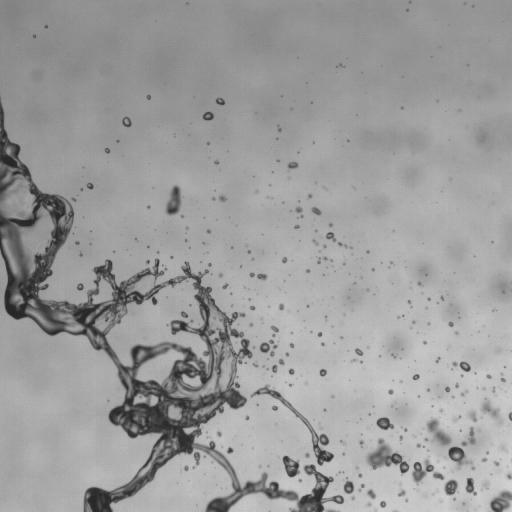droplet: (365, 439, 409, 476), (422, 416, 451, 445), (487, 489, 511, 511), (259, 339, 279, 357), (443, 478, 460, 495), (376, 417, 394, 430), (465, 477, 477, 495), (343, 476, 354, 494), (467, 409, 477, 422), (17, 151, 28, 162), (160, 191, 171, 202), (63, 234, 74, 245), (55, 246, 66, 257), (37, 289, 48, 300), (75, 293, 86, 304), (441, 354, 452, 365), (113, 394, 124, 405), (471, 400, 482, 411), (444, 406, 455, 417), (460, 417, 471, 428), (379, 428, 390, 439), (215, 441, 226, 452), (366, 441, 377, 452), (388, 442, 399, 453), (176, 451, 187, 462), (199, 452, 210, 463), (498, 452, 509, 463), (318, 462, 329, 473), (360, 462, 371, 473), (499, 462, 510, 473), (121, 472, 132, 483), (220, 473, 231, 484), (305, 476, 316, 487), (278, 479, 289, 490), (101, 480, 112, 491), (332, 483, 343, 494), (301, 484, 312, 495), (221, 485, 232, 496), (488, 487, 499, 498), (74, 491, 85, 502), (242, 492, 253, 503), (325, 232, 336, 242), (480, 479, 489, 491), (366, 489, 376, 499), (202, 111, 213, 120), (122, 116, 131, 127), (287, 161, 298, 170), (270, 325, 278, 337), (452, 414, 461, 423), (209, 103, 218, 112), (7, 133, 16, 142), (38, 184, 47, 193), (302, 206, 311, 215), (136, 262, 145, 271), (156, 274, 165, 283), (54, 293, 63, 302), (274, 348, 283, 357), (490, 375, 499, 384), (237, 386, 246, 395), (430, 409, 439, 418), (499, 409, 508, 418), (436, 422, 445, 431), (150, 431, 159, 440), (460, 431, 469, 440), (289, 452, 298, 461), (308, 455, 317, 464), (390, 462, 399, 471), (377, 464, 386, 473), (250, 473, 259, 482), (436, 479, 445, 488), (457, 479, 466, 488), (143, 481, 152, 490), (256, 491, 265, 500), (121, 496, 130, 505), (276, 496, 285, 505), (288, 499, 297, 508), (322, 500, 331, 509), (311, 207, 321, 215), (257, 273, 267, 281), (498, 444, 508, 452), (216, 97, 225, 105), (179, 310, 188, 318), (505, 370, 511, 381), (505, 480, 511, 491), (218, 195, 227, 202), (354, 348, 363, 355), (76, 283, 84, 290), (319, 368, 326, 376), (460, 389, 468, 396), (504, 471, 511, 479), (0, 285, 5, 296), (358, 438, 364, 447), (86, 182, 93, 189), (295, 206, 302, 213), (412, 374, 419, 381), (226, 446, 233, 453), (3, 123, 10, 130), (288, 155, 295, 162), (31, 176, 38, 183), (178, 189, 185, 196), (160, 203, 167, 210), (177, 206, 184, 213), (171, 212, 178, 219), (320, 249, 327, 256), (97, 259, 104, 266), (147, 262, 154, 269), (49, 263, 56, 270), (134, 266, 141, 273), (190, 267, 197, 274), (90, 272, 97, 279), (44, 276, 51, 283), (200, 280, 207, 287), (209, 290, 216, 297), (244, 308, 251, 315), (6, 314, 13, 321), (404, 315, 411, 322), (20, 316, 27, 323), (230, 321, 237, 328), (56, 331, 63, 338), (79, 334, 86, 341), (98, 348, 105, 355), (111, 366, 118, 373), (287, 374, 294, 381), (457, 385, 464, 392), (485, 390, 492, 397), (273, 398, 280, 405), (489, 401, 496, 408), (222, 402, 229, 409), (475, 409, 482, 416), (483, 412, 490, 419), (423, 415, 430, 422), (466, 419, 473, 426), (115, 424, 122, 431), (426, 431, 433, 438), (192, 436, 199, 443), (448, 440, 455, 447), (220, 447, 227, 454), (224, 452, 231, 459), (486, 457, 493, 464), (297, 464, 304, 471), (314, 464, 321, 471), (260, 465, 267, 472), (433, 465, 440, 472), (155, 467, 162, 474), (425, 471, 432, 478), (308, 473, 315, 480), (443, 474, 450, 481), (352, 481, 359, 488), (472, 481, 479, 488), (277, 483, 284, 490), (438, 487, 445, 494), (337, 488, 344, 495), (297, 490, 304, 497), (322, 491, 329, 498), (342, 492, 349, 499), (206, 494, 213, 501), (236, 498, 243, 505), (372, 498, 379, 505), (108, 501, 115, 508), (200, 501, 207, 508), (271, 364, 277, 372), (506, 441, 511, 450), (227, 506, 236, 511), (222, 282, 228, 289), (278, 303, 284, 310), (278, 358, 284, 365), (252, 360, 258, 367), (288, 368, 294, 375), (216, 430, 222, 437), (380, 500, 386, 507), (271, 405, 279, 410), (317, 331, 323, 337), (304, 452, 310, 458), (493, 460, 499, 466), (0, 295, 4, 304), (505, 505, 511, 511), (445, 386, 450, 393), (104, 148, 110, 153), (307, 193, 312, 199), (294, 224, 300, 229), (282, 257, 287, 263), (448, 321, 453, 327), (289, 342, 294, 348), (438, 407, 443, 413), (481, 457, 487, 462), (184, 465, 189, 471), (366, 501, 371, 507), (507, 466, 511, 473), (378, 507, 385, 511), (328, 222, 333, 227), (218, 272, 223, 277), (249, 272, 254, 277), (495, 348, 500, 353), (391, 353, 396, 358), (388, 389, 393, 394), (350, 495, 355, 500), (406, 3, 411, 8), (2, 107, 7, 112), (212, 112, 217, 117), (275, 131, 280, 136), (210, 156, 215, 161), (297, 162, 302, 167), (290, 167, 295, 172), (28, 168, 33, 173), (223, 192, 228, 197), (214, 197, 219, 202), (69, 200, 74, 205), (297, 202, 302, 207), (316, 204, 321, 209), (290, 205, 295, 210), (72, 208, 77, 213), (295, 211, 300, 216), (311, 212, 316, 217), (72, 213, 77, 218), (294, 219, 299, 224), (69, 227, 74, 232), (328, 227, 333, 232), (184, 241, 189, 246), (317, 244, 322, 249), (339, 245, 344, 250), (318, 252, 323, 257), (154, 253, 159, 258), (246, 253, 251, 258), (277, 255, 282, 260), (319, 258, 324, 263), (157, 265, 162, 270), (207, 266, 212, 271), (110, 268, 115, 273), (260, 269, 265, 274), (179, 270, 184, 275), (265, 276, 270, 281), (257, 278, 262, 283), (115, 280, 120, 285), (38, 281, 43, 286), (91, 283, 96, 288), (214, 300, 219, 305), (249, 300, 254, 305), (273, 303, 278, 308), (283, 304, 288, 309), (236, 308, 241, 313), (227, 313, 232, 318), (236, 315, 241, 320), (274, 322, 279, 327), (33, 323, 38, 328), (451, 325, 456, 330), (236, 327, 241, 332), (40, 330, 45, 335), (312, 330, 317, 335), (45, 333, 50, 338), (242, 334, 247, 339), (272, 336, 277, 341), (318, 336, 323, 341), (263, 337, 268, 342), (246, 345, 251, 350), (286, 346, 291, 351), (359, 346, 364, 351), (273, 348, 278, 353), (353, 353, 358, 358), (243, 355, 248, 360), (282, 356, 287, 361), (273, 359, 278, 364), (257, 361, 262, 366), (235, 362, 240, 367), (267, 363, 272, 368), (276, 363, 281, 368), (455, 364, 460, 369), (469, 366, 474, 371), (267, 368, 272, 373), (460, 369, 465, 374), (232, 377, 237, 382), (387, 384, 392, 389), (449, 384, 454, 389), (253, 385, 258, 390), (274, 386, 279, 391), (265, 393, 270, 398), (243, 402, 248, 407), (291, 402, 296, 407), (433, 405, 438, 410), (237, 406, 242, 411), (289, 411, 294, 416), (301, 411, 306, 416), (380, 412, 385, 417), (504, 416, 509, 421), (208, 417, 213, 422), (295, 417, 300, 422), (388, 418, 393, 423), (371, 419, 376, 424), (106, 420, 111, 425), (470, 421, 475, 426), (375, 425, 380, 430), (303, 426, 308, 431), (464, 428, 469, 433), (399, 429, 404, 434), (220, 430, 225, 435), (316, 430, 321, 435), (122, 431, 127, 436), (306, 431, 311, 436), (326, 433, 331, 438), (472, 433, 477, 438), (136, 434, 141, 439), (356, 435, 361, 440), (360, 435, 365, 440), (419, 439, 424, 444), (204, 441, 209, 446), (308, 442, 313, 447), (457, 443, 462, 448), (214, 445, 219, 450), (461, 445, 466, 450), (199, 450, 204, 455), (443, 450, 448, 455), (481, 452, 486, 457), (287, 453, 292, 458), (198, 456, 203, 461), (330, 457, 335, 462), (446, 457, 451, 462), (140, 459, 145, 464), (166, 459, 171, 464), (428, 459, 433, 464), (322, 460, 327, 465), (451, 460, 456, 465), (213, 461, 218, 466), (472, 461, 477, 466), (279, 462, 284, 467), (195, 464, 200, 469), (491, 464, 496, 469), (218, 465, 223, 470), (408, 465, 413, 470), (233, 466, 238, 471), (187, 467, 192, 472), (324, 472, 329, 477), (466, 473, 471, 478), (293, 474, 298, 479), (486, 475, 491, 480), (347, 476, 352, 481), (273, 477, 278, 482), (435, 477, 440, 482), (340, 480, 345, 485), (264, 482, 269, 487), (400, 484, 405, 489), (361, 487, 366, 492), (372, 488, 377, 493), (452, 491, 457, 496), (467, 491, 472, 496), (448, 493, 453, 498), (366, 495, 371, 500), (399, 495, 404, 500), (384, 498, 389, 503), (368, 505, 373, 510), (145, 259, 149, 265), (440, 295, 444, 301), (249, 306, 255, 310), (455, 382, 459, 388), (399, 435, 403, 441), (0, 256, 3, 263), (146, 94, 150, 99), (214, 160, 219, 164), (71, 197, 76, 201), (206, 229, 211, 233), (134, 237, 138, 242), (207, 262, 211, 267), (305, 269, 310, 273), (249, 322, 253, 327), (422, 340, 427, 344), (486, 374, 491, 378), (245, 415, 249, 420), (146, 205, 150, 209), (180, 214, 184, 218), (454, 331, 458, 335), (320, 342, 324, 346), (285, 352, 289, 356), (412, 434, 416, 438), (298, 478, 302, 482), (79, 251, 82, 256), (405, 497, 408, 502), (206, 141, 209, 145), (254, 190, 258, 193), (185, 226, 188, 230), (75, 241, 79, 244), (323, 244, 326, 248), (247, 250, 251, 253), (390, 261, 394, 264), (492, 308, 496, 311), (427, 321, 430, 325), (252, 345, 255, 349), (304, 381, 308, 384), (426, 388, 430, 391), (451, 395, 455, 398), (404, 427, 407, 431), (258, 464, 261, 468), (423, 494, 427, 497), (452, 497, 456, 500), (44, 25, 47, 28), (400, 106, 403, 109), (116, 139, 119, 142), (276, 159, 279, 162), (352, 186, 355, 189), (212, 197, 215, 200), (314, 229, 317, 232), (230, 246, 233, 249), (156, 250, 159, 253), (366, 250, 369, 253), (170, 256, 173, 259), (251, 257, 254, 260), (342, 262, 345, 265), (371, 268, 374, 271), (366, 288, 369, 291), (229, 292, 232, 295), (427, 297, 430, 300), (230, 304, 233, 307), (306, 304, 309, 307), (412, 320, 415, 323), (290, 331, 293, 334), (378, 354, 381, 357), (460, 374, 463, 377), (399, 380, 402, 383), (482, 387, 485, 390), (331, 395, 334, 398), (323, 408, 326, 411), (486, 451, 489, 454), (342, 452, 345, 455), (439, 499, 442, 502), (462, 502, 465, 505), (405, 11, 408, 14), (41, 23, 44, 26), (47, 24, 50, 27), (44, 27, 47, 30), (32, 31, 35, 34), (29, 34, 32, 37), (35, 34, 38, 37), (335, 62, 338, 65), (341, 62, 344, 65), (337, 65, 340, 68), (144, 92, 147, 95), (218, 94, 221, 97), (150, 95, 153, 98), (144, 97, 147, 100), (223, 99, 226, 102), (213, 100, 216, 103), (216, 103, 219, 106), (309, 103, 312, 106), (220, 104, 223, 107), (206, 108, 209, 111), (201, 111, 204, 114), (121, 114, 124, 117), (126, 114, 129, 117), (130, 119, 133, 122), (204, 119, 207, 122), (207, 119, 210, 122), (119, 120, 122, 123), (120, 123, 123, 126), (130, 123, 133, 126), (278, 124, 281, 127), (123, 125, 126, 128), (274, 127, 277, 130), (280, 129, 283, 132), (116, 136, 119, 139), (347, 136, 350, 139), (204, 139, 207, 142), (343, 139, 346, 142), (113, 140, 116, 143), (309, 140, 312, 143), (314, 140, 317, 143), (117, 141, 120, 144), (208, 143, 211, 146), (312, 143, 315, 146), (104, 144, 107, 147), (107, 145, 110, 148), (109, 149, 112, 152), (103, 151, 106, 154), (276, 156, 279, 159), (217, 158, 220, 161), (276, 161, 279, 164), (214, 163, 217, 166), (268, 170, 271, 173), (91, 181, 94, 184), (92, 186, 95, 189), (86, 187, 89, 190), (79, 190, 82, 193), (307, 190, 310, 193), (304, 194, 307, 197), (73, 195, 76, 198), (311, 195, 314, 198), (208, 196, 211, 199), (297, 196, 300, 199), (308, 197, 311, 200), (210, 199, 213, 202), (145, 202, 148, 205), (149, 205, 152, 208), (144, 207, 147, 210), (298, 217, 301, 220), (330, 220, 333, 223), (209, 227, 212, 230), (296, 227, 299, 230), (183, 228, 186, 231), (203, 228, 206, 231), (186, 229, 189, 232), (205, 232, 208, 235), (333, 234, 336, 237), (131, 236, 134, 239), (136, 236, 139, 239), (186, 237, 189, 240), (75, 238, 78, 241), (181, 238, 184, 241), (315, 238, 318, 241), (132, 239, 135, 242), (203, 239, 206, 242), (334, 240, 337, 243), (340, 240, 343, 243), (79, 241, 82, 244), (311, 242, 314, 245), (200, 243, 203, 246), (346, 243, 349, 246), (350, 243, 353, 246), (75, 244, 78, 247), (143, 244, 146, 247), (227, 244, 230, 247), (149, 245, 152, 248), (190, 245, 193, 248), (247, 246, 250, 249), (145, 247, 148, 250), (346, 247, 349, 250), (364, 247, 367, 250), (230, 248, 233, 251), (368, 248, 371, 251), (244, 249, 247, 252), (250, 249, 253, 252), (80, 250, 83, 253), (76, 251, 79, 254), (169, 252, 172, 255), (364, 252, 367, 255), (77, 255, 80, 258), (80, 255, 83, 258), (326, 255, 329, 258), (144, 257, 147, 260), (199, 257, 202, 260), (315, 257, 318, 260), (170, 258, 173, 261), (185, 258, 188, 261), (332, 258, 335, 261), (207, 259, 210, 262), (326, 259, 329, 262), (285, 260, 288, 263), (392, 260, 395, 263), (210, 261, 213, 264), (158, 262, 161, 265), (281, 262, 284, 265), (316, 263, 319, 266), (389, 263, 392, 266), (236, 264, 239, 267), (340, 264, 343, 267), (343, 264, 346, 267), (371, 264, 374, 267), (241, 265, 244, 268), (304, 266, 307, 269), (308, 266, 311, 269), (374, 267, 377, 270), (368, 268, 371, 271), (250, 269, 253, 272), (305, 272, 308, 275), (253, 274, 256, 277), (247, 275, 250, 278), (226, 280, 229, 283), (414, 281, 417, 284), (420, 281, 423, 284), (221, 282, 224, 285), (74, 283, 77, 286), (416, 284, 419, 287), (226, 285, 229, 288), (231, 290, 234, 293), (228, 294, 231, 297), (247, 294, 250, 297), (426, 294, 429, 297), (442, 295, 445, 298), (244, 297, 247, 300), (430, 297, 433, 300), (424, 298, 427, 301), (438, 298, 441, 301), (404, 299, 407, 302), (410, 299, 413, 302), (279, 300, 282, 303), (303, 303, 306, 306), (308, 303, 311, 306), (407, 303, 410, 306), (435, 303, 438, 306), (218, 306, 221, 309), (254, 307, 257, 310), (305, 307, 308, 310), (410, 307, 413, 310), (249, 309, 252, 312), (278, 309, 281, 312), (493, 310, 496, 313), (322, 312, 325, 315), (398, 313, 401, 316), (458, 313, 461, 316), (403, 315, 406, 318), (326, 316, 329, 319), (400, 316, 403, 319), (322, 317, 325, 320), (413, 317, 416, 320), (409, 318, 412, 321), (449, 318, 452, 321), (258, 319, 261, 322), (424, 320, 427, 323), (429, 320, 432, 323), (445, 321, 448, 324), (252, 322, 255, 325), (411, 323, 414, 326), (429, 323, 432, 326), (447, 325, 450, 328), (308, 327, 311, 330), (278, 328, 281, 331), (291, 328, 294, 331), (457, 329, 460, 332), (271, 330, 274, 333), (288, 333, 291, 336), (291, 333, 294, 336), (341, 333, 344, 336), (452, 333, 455, 336), (270, 336, 273, 339), (337, 337, 340, 340), (423, 337, 426, 340), (292, 341, 295, 344), (317, 342, 320, 345), (420, 342, 423, 345), (424, 343, 427, 346), (293, 344, 296, 347), (320, 345, 323, 348), (389, 350, 392, 353), (378, 351, 381, 354), (393, 352, 396, 355), (375, 353, 378, 356), (439, 354, 442, 357), (380, 355, 383, 358), (395, 356, 398, 359), (434, 356, 437, 359), (461, 358, 464, 361), (438, 359, 441, 362), (356, 360, 359, 363), (362, 360, 365, 363), (466, 360, 469, 363), (434, 362, 437, 365), (503, 362, 506, 365), (359, 363, 362, 366), (500, 364, 503, 367), (251, 365, 254, 368), (290, 365, 293, 368), (451, 365, 454, 368), (318, 366, 321, 369), (322, 366, 325, 369), (262, 367, 265, 370), (447, 367, 450, 370), (503, 367, 506, 370), (285, 370, 288, 373), (293, 371, 296, 374), (316, 371, 319, 374), (476, 371, 479, 374), (487, 371, 490, 374), (235, 372, 238, 375), (272, 372, 275, 375), (411, 372, 414, 375), (418, 373, 421, 376), (323, 374, 326, 377), (473, 374, 476, 377), (319, 375, 322, 378), (502, 375, 505, 378), (399, 376, 402, 379), (417, 377, 420, 380), (485, 377, 488, 380), (396, 378, 399, 381), (412, 379, 415, 382), (237, 381, 240, 384), (500, 381, 503, 384), (285, 382, 288, 385), (291, 384, 294, 387), (425, 385, 428, 388), (442, 385, 445, 388), (478, 386, 481, 389), (489, 387, 492, 390), (494, 387, 497, 390), (385, 388, 388, 391), (423, 388, 426, 391), (429, 388, 432, 391), (442, 389, 445, 392), (416, 391, 419, 394), (426, 391, 429, 394), (387, 393, 390, 396), (414, 395, 417, 398), (419, 395, 422, 398), (460, 395, 463, 398), (449, 397, 452, 400), (430, 401, 433, 404), (393, 404, 396, 407), (428, 405, 431, 408), (325, 407, 328, 410), (320, 408, 323, 411), (271, 409, 274, 412), (274, 409, 277, 412), (323, 410, 326, 413), (442, 410, 445, 413), (364, 412, 367, 415), (242, 415, 245, 418), (248, 416, 251, 419), (356, 417, 359, 420), (302, 423, 305, 426), (402, 425, 405, 428), (406, 426, 409, 429), (456, 427, 459, 430), (218, 428, 221, 431), (472, 428, 475, 431), (413, 431, 416, 434), (396, 436, 399, 439), (341, 437, 344, 440), (400, 439, 403, 442), (339, 442, 342, 445), (413, 442, 416, 445), (357, 443, 360, 446), (361, 443, 364, 446), (230, 445, 233, 448), (422, 447, 425, 450), (488, 450, 491, 453), (344, 451, 347, 454), (426, 451, 429, 454), (485, 454, 488, 457), (495, 458, 498, 461), (484, 460, 487, 463), (181, 465, 184, 468), (181, 468, 184, 471), (339, 468, 342, 471), (358, 470, 361, 473), (355, 472, 358, 475), (361, 473, 364, 476), (407, 498, 410, 501), (404, 501, 407, 504), (459, 503, 462, 506), (396, 507, 399, 510), (33, 34, 35, 38), (391, 403, 393, 407), (409, 0, 411, 3), (406, 8, 408, 11), (310, 101, 313, 103), (458, 109, 461, 111), (347, 139, 349, 142), (268, 184, 271, 186), (80, 188, 82, 191), (185, 239, 187, 242), (147, 245, 149, 248), (318, 250, 321, 252), (240, 264, 242, 267), (425, 273, 427, 276), (360, 276, 362, 279), (353, 282, 356, 284), (502, 291, 505, 293), (267, 305, 270, 307), (425, 306, 427, 309), (343, 313, 345, 316), (260, 317, 263, 319), (310, 330, 312, 333), (340, 336, 343, 338), (262, 365, 265, 367), (503, 366, 506, 368), (266, 368, 269, 370), (474, 371, 476, 374), (417, 395, 420, 397), (107, 399, 109, 402), (256, 403, 258, 406), (431, 405, 434, 407), (480, 415, 482, 418), (400, 425, 402, 428), (437, 460, 439, 463), (186, 2, 188, 4), (472, 5, 474, 7), (276, 137, 278, 139), (297, 151, 299, 153), (282, 201, 284, 203), (298, 200, 300, 202), (491, 241, 493, 243), (202, 242, 204, 244), (113, 250, 115, 252), (207, 251, 209, 253), (473, 255, 475, 257), (388, 266, 390, 268), (283, 280, 285, 282), (243, 286, 245, 288), (248, 298, 250, 300), (436, 301, 438, 303), (189, 304, 191, 306), (458, 316, 460, 318), (237, 323, 239, 325), (331, 325, 333, 327), (401, 348, 403, 350), (399, 357, 401, 359), (451, 368, 453, 370), (476, 387, 478, 389), (372, 405, 374, 407), (368, 413, 370, 415), (459, 429, 461, 431), (360, 433, 362, 435), (427, 449, 429, 451), (267, 465, 269, 467), (443, 466, 445, 468), (490, 473, 492, 475), (185, 0, 188, 1), (405, 0, 408, 1), (410, 0, 413, 1), (290, 209, 291, 211), (392, 230, 394, 231), (72, 233, 74, 234), (89, 243, 91, 244), (188, 247, 190, 248), (271, 375, 272, 377), (206, 431, 207, 433), (268, 510, 270, 511), (313, 141, 314, 142), (90, 230, 91, 231), (211, 273, 212, 274), (478, 330, 479, 331), (395, 408, 396, 409)
ligament: (250, 384, 334, 466), (479, 397, 503, 427), (165, 184, 182, 215), (452, 361, 470, 371), (337, 241, 353, 249), (397, 481, 405, 496), (316, 256, 333, 263), (355, 465, 362, 478), (350, 358, 363, 363), (500, 372, 506, 382), (358, 483, 364, 492), (491, 386, 496, 396), (432, 488, 439, 495), (285, 381, 293, 387), (335, 470, 343, 476), (407, 300, 412, 308), (312, 239, 318, 245), (416, 443, 425, 447), (296, 214, 303, 219), (435, 356, 440, 363), (318, 422, 323, 429), (339, 440, 346, 445), (277, 124, 281, 132), (369, 507, 377, 511), (397, 314, 404, 318), (339, 63, 345, 67), (324, 315, 327, 322), (417, 282, 423, 285), (437, 396, 442, 398), (367, 345, 369, 349), (392, 510, 400, 511), (261, 321, 262, 324)
